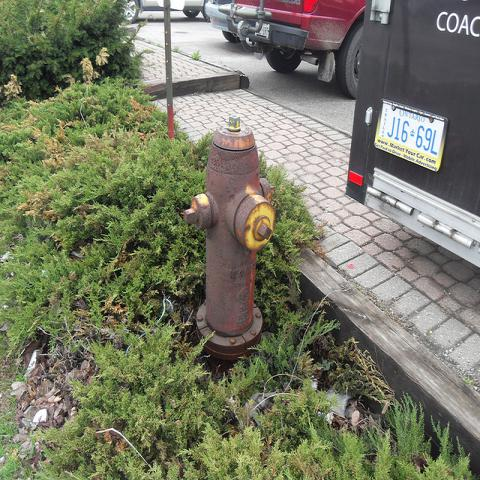bus: (343, 0, 479, 271)
car: (113, 1, 218, 23), (206, 4, 253, 52)
truck: (342, 0, 479, 272), (206, 0, 366, 93)
